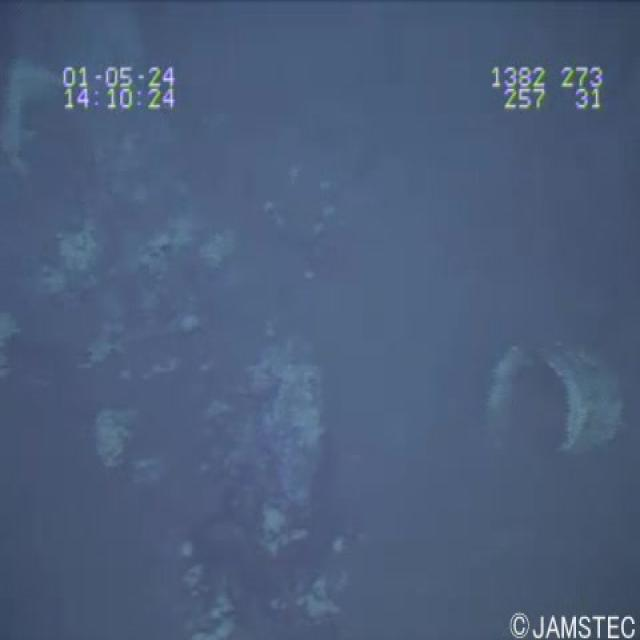plastic: (474, 329, 626, 469)
